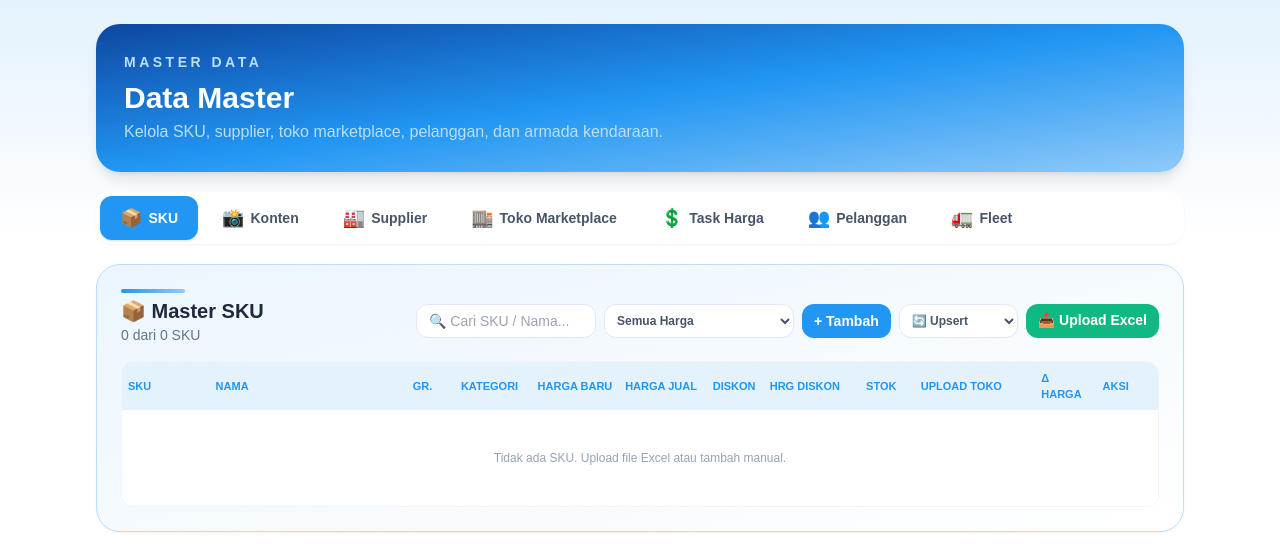
Test: DataMasterPage › switches to Toko per Marketplace
Click the tab "🏬 Toko Marketplace": click(544, 218) [451,196,637,240]
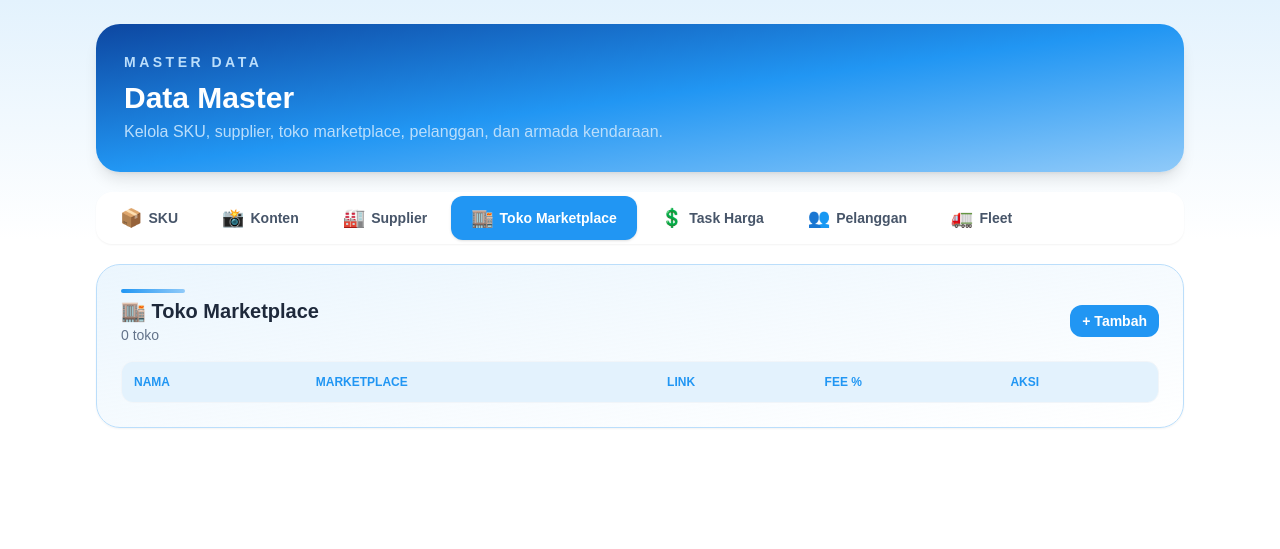
Now the heading "🏬 Toko Marketplace" is shown, box [121,297,319,325]
